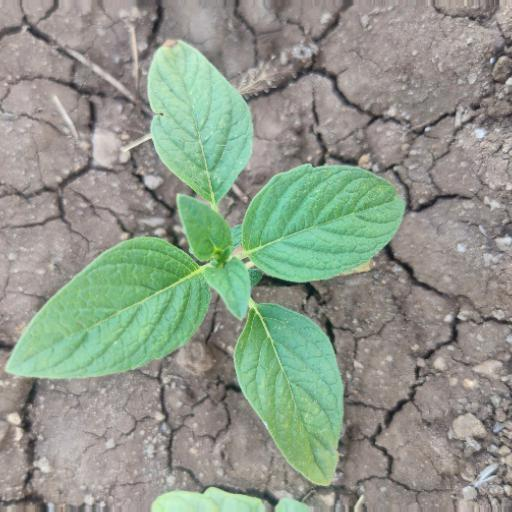crop: (13, 33, 409, 490)
